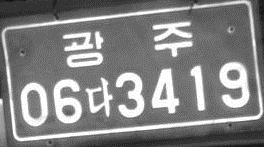0: (19, 81, 49, 127)
1: (185, 67, 212, 112)
3: (115, 71, 145, 119)
4: (151, 68, 179, 114)
6: (53, 78, 81, 124)
9: (219, 61, 250, 108)
광주_D: (63, 21, 192, 67)
다: (85, 76, 113, 117)
